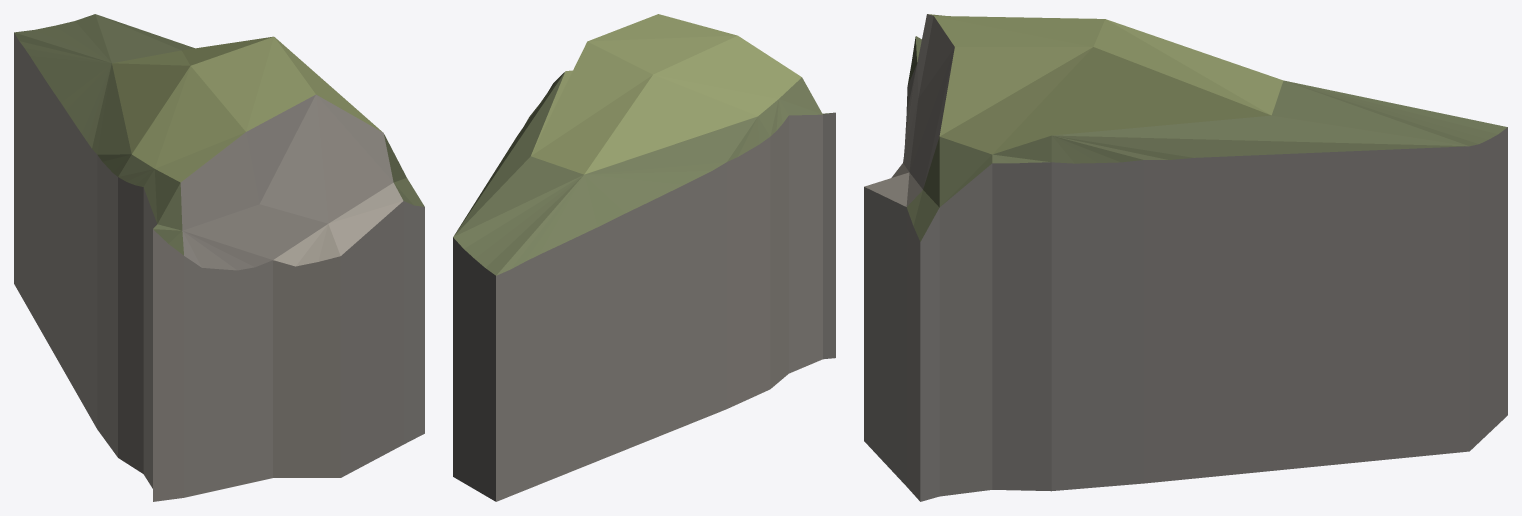
The model's file is cliff_front_columns.glb.
3 views of the same model, side by side, from view 1: azimuth 30°, elevation 25°; view 2: azimuth 150°, elevation 25°; view 3: azimuth 270°, elevation 25° (orthographic). The views are drawn at different scales.
Visible parts, largest first — view 1: cliff_front_columns; view 2: cliff_front_columns; view 3: cliff_front_columns.
Part boxes in pixels (box(x1,y1,x2,y2)): cliff_front_columns: box(14, 14, 424, 501); cliff_front_columns: box(453, 14, 835, 501); cliff_front_columns: box(864, 14, 1507, 501).
Size of the model in its own units: 54.99 by 69.04 by 97.56.
